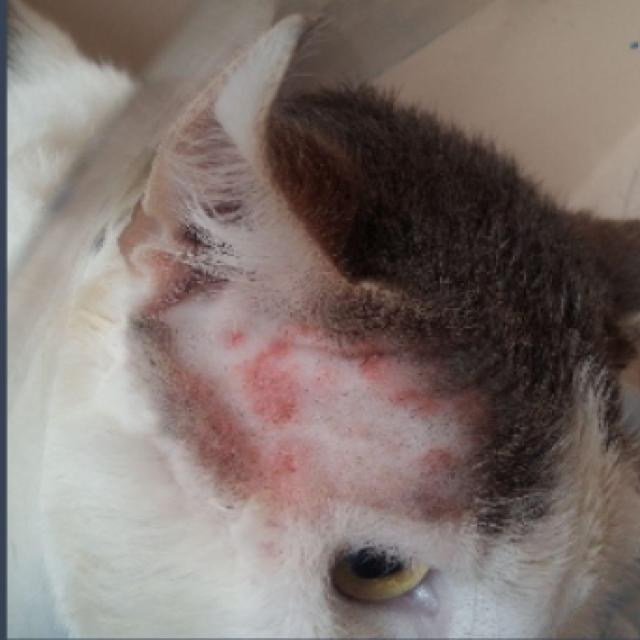hac lao: (54, 160, 550, 609)
